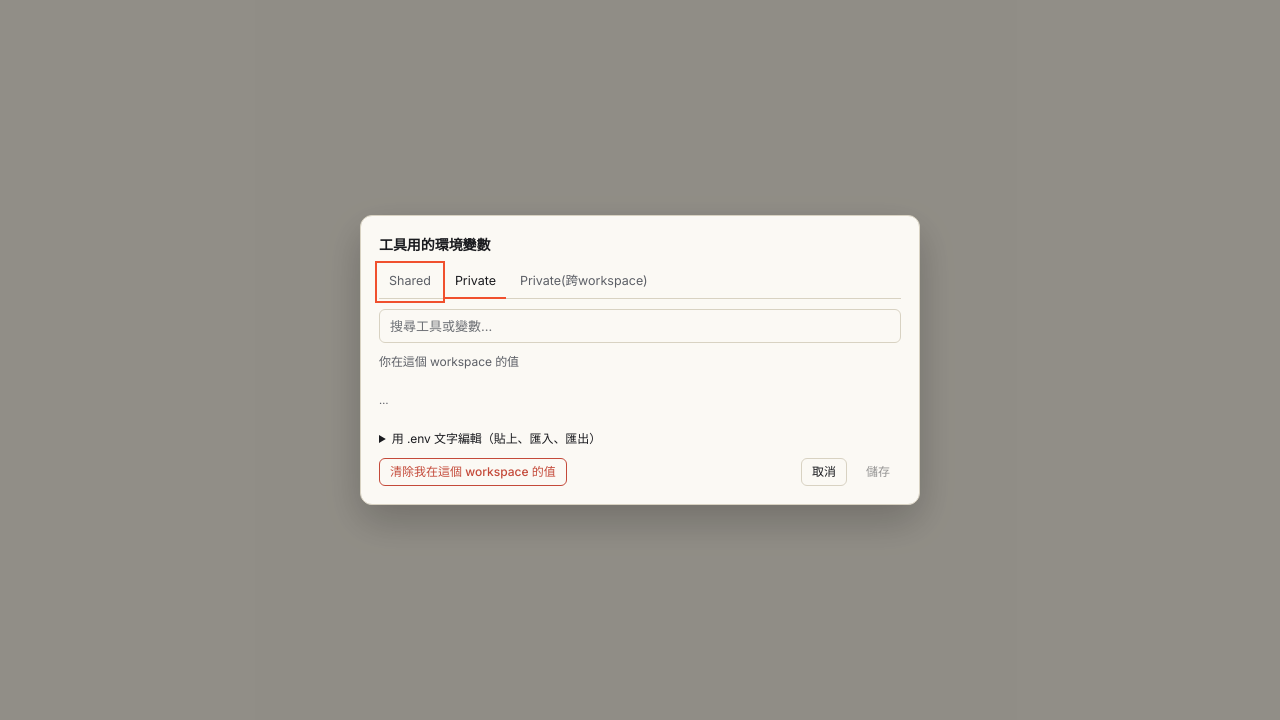
Scenario: a value of mine that no tool declared (2026-10-12) › says which value this item uses instead when the item has its own
Click the tab with test id "env-tab-personal": (584, 282) [510, 265, 658, 299]
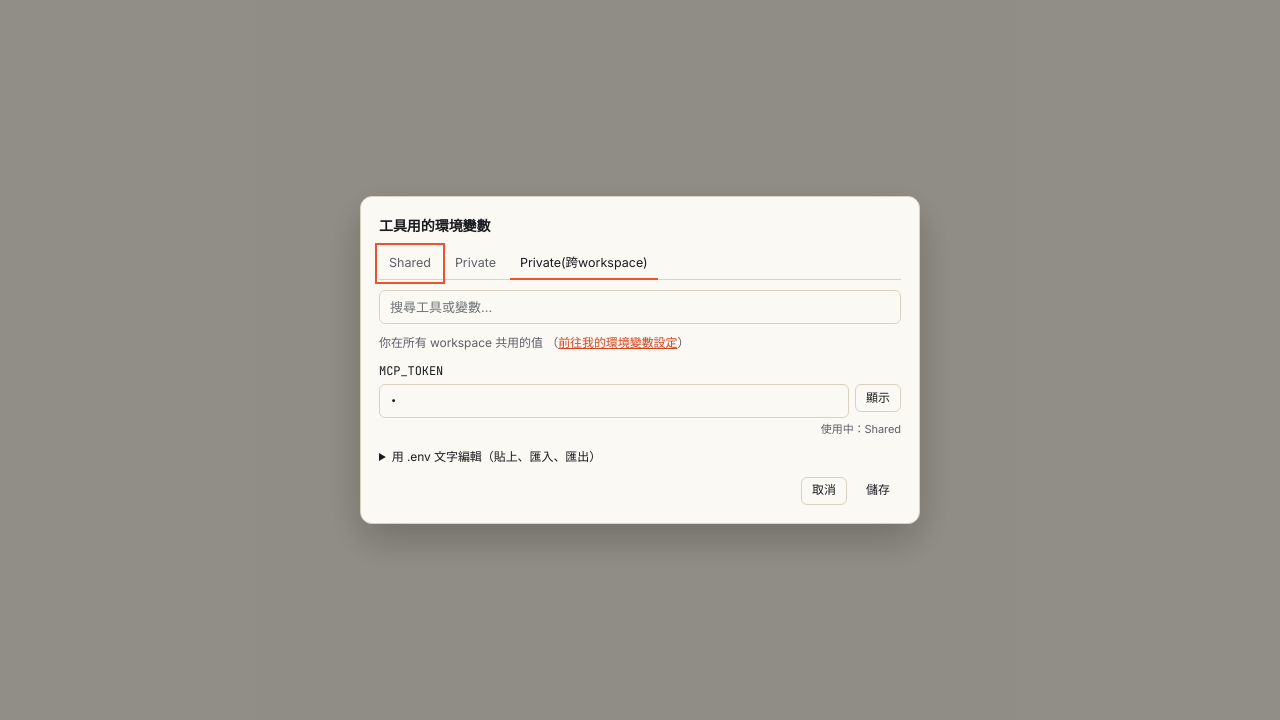
expect the element with test id "env-personal-row-MCP_TOKEN" shows "使用中：Shared": met, box [821, 422, 901, 436]
